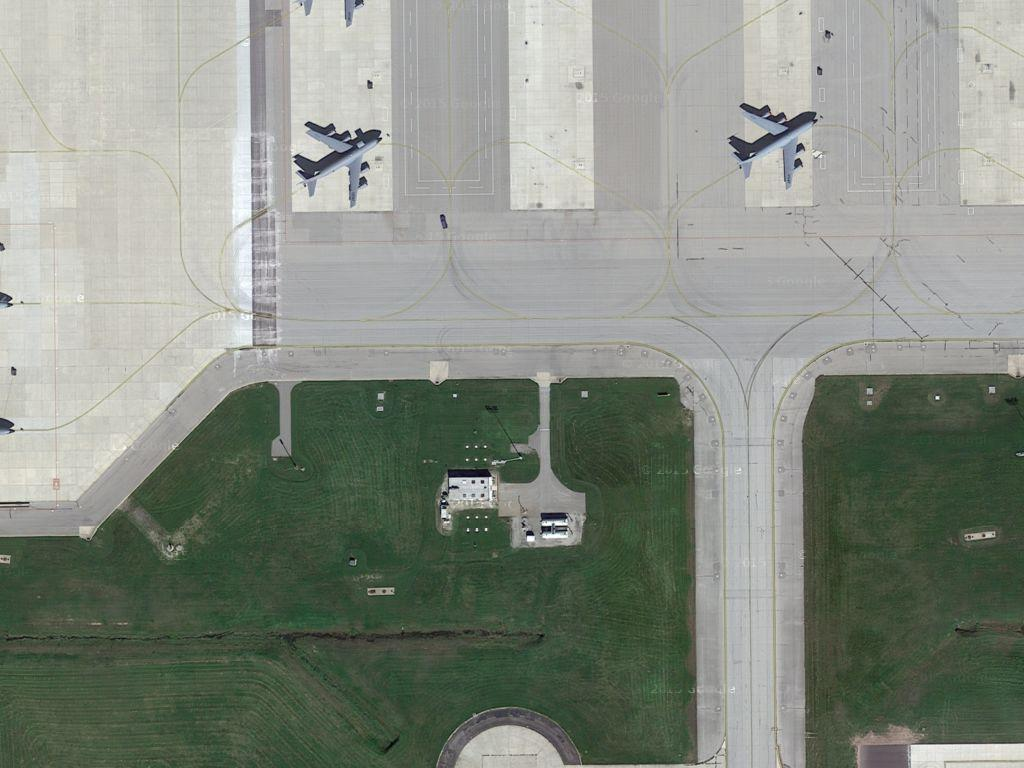KC-135: (730, 99, 818, 192), (292, 122, 385, 205)
